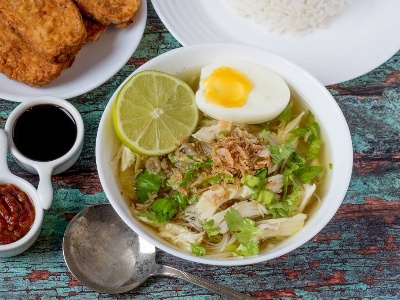soto: (131, 71, 325, 242)
